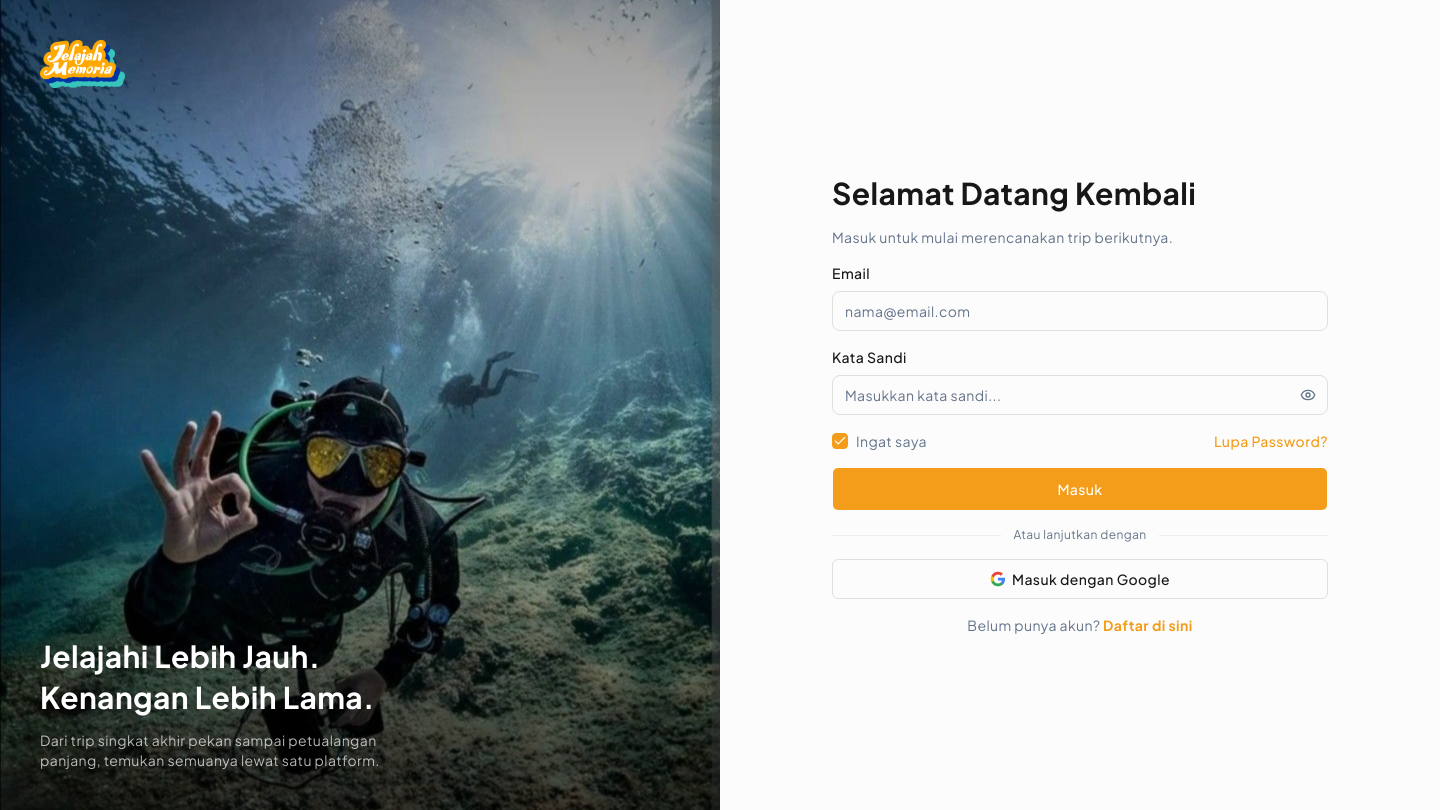
Scenario: LoginForm validasi › menolak format email tidak valid tanpa memanggil signIn
This screenshot has width=1440, height=810.
Type "budi-at-example" into the field labelled "Email" at (1080, 311), box [832,291,1328,331]
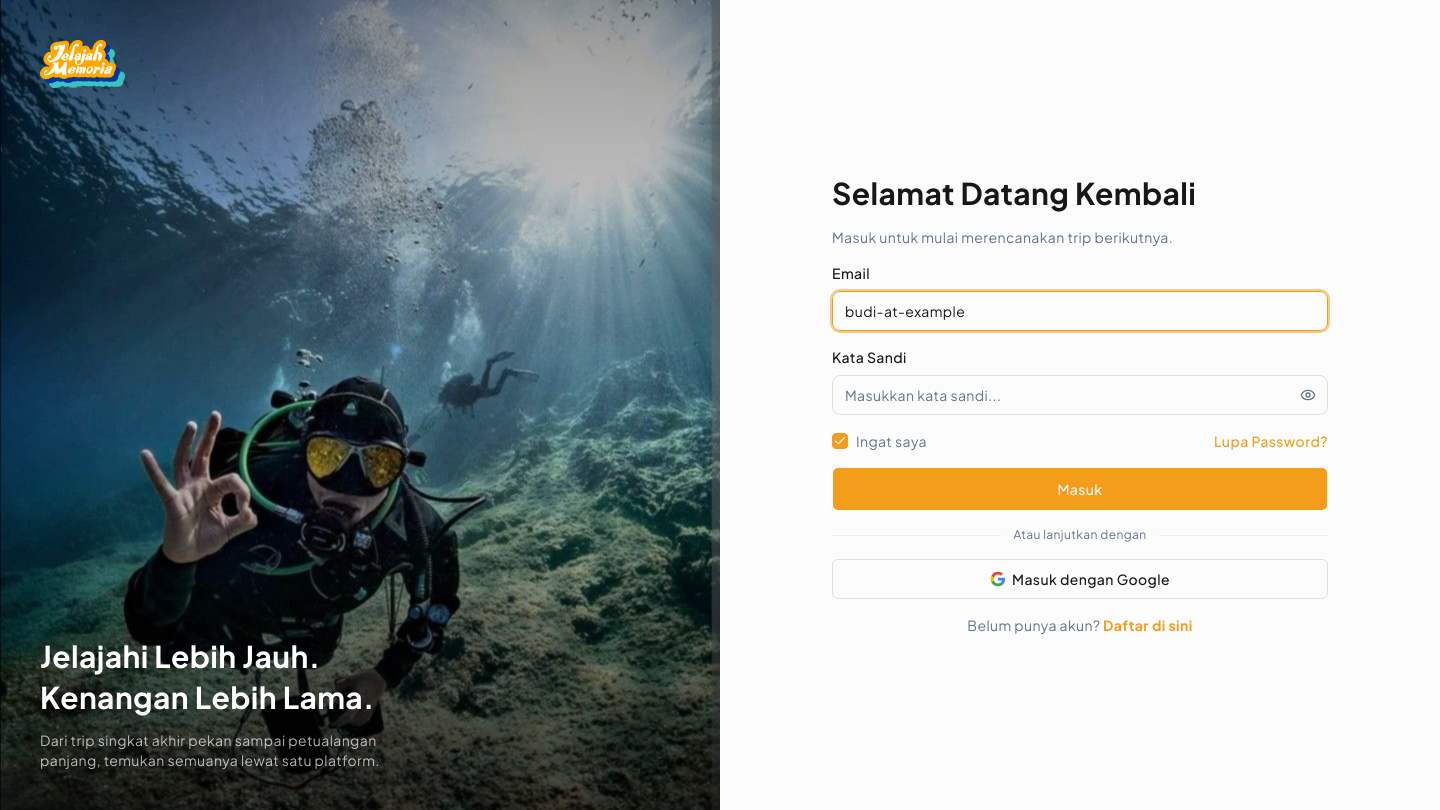
Click the button "Masuk" at (1080, 489), box [832,467,1328,511]
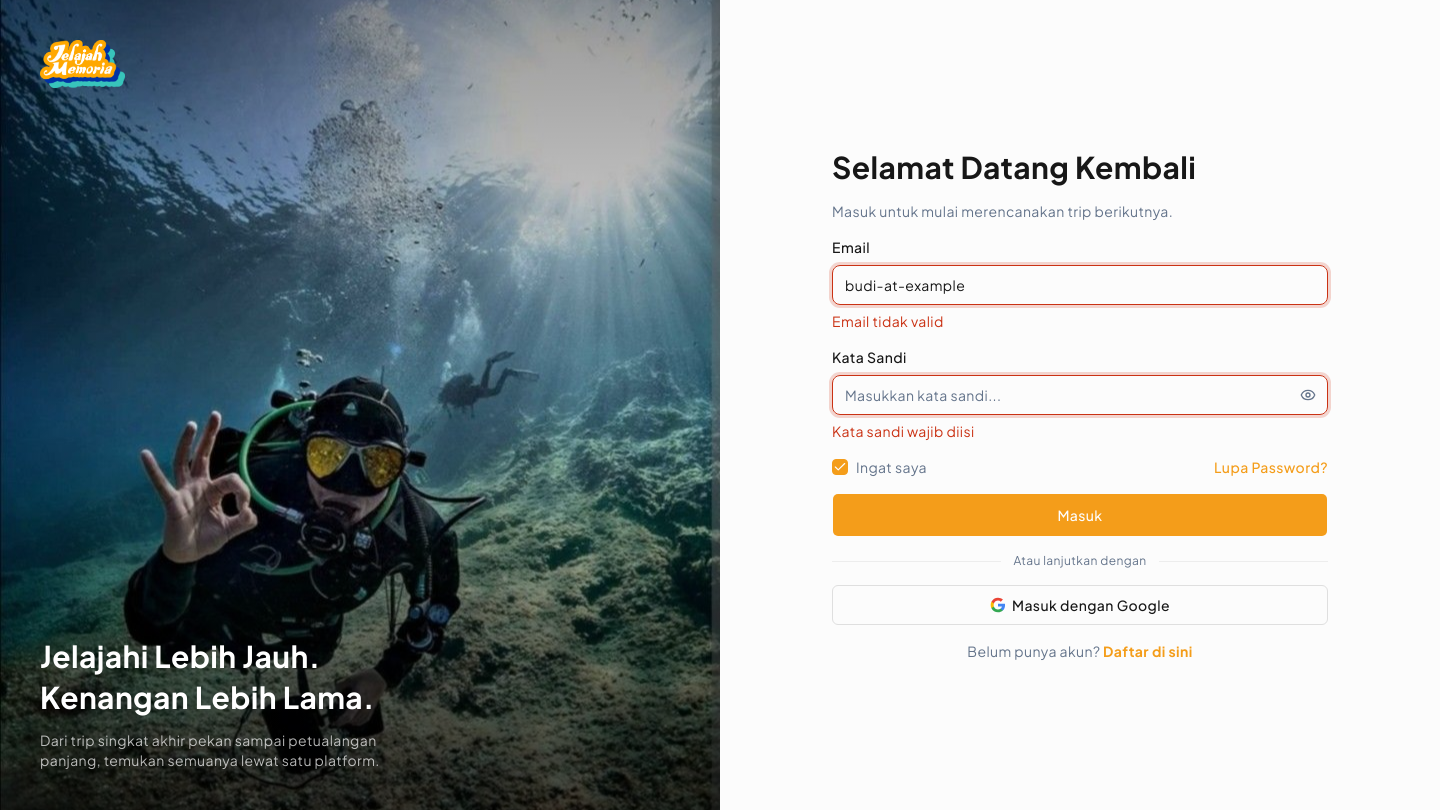
expect the text "Email tidak valid" is shown: met, box [832,312,944,330]
